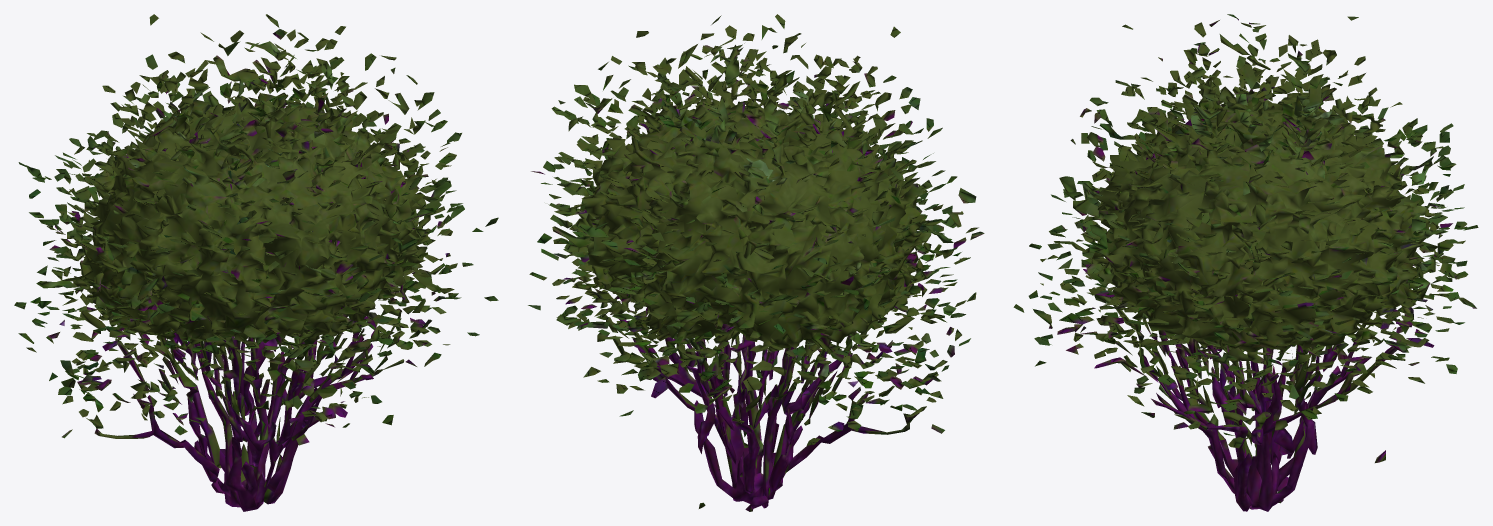
The model's file is g-shrub.glb.
The picture shows the model from 3 angles, left to right: view 1: azimuth 30°, elevation 25°; view 2: azimuth 150°, elevation 25°; view 3: azimuth 270°, elevation 25°; orthographic projection.
Visible parts, largest first — view 1: world; view 2: world; view 3: world.
Boxes of the visible parts, x1,y1,x2,y2 form: world: (14, 14, 498, 511); world: (528, 14, 984, 511); world: (1013, 14, 1478, 511).
Size of the model in its own units: 1.79 by 1.98 by 1.78.
1 material, 1 textured.
